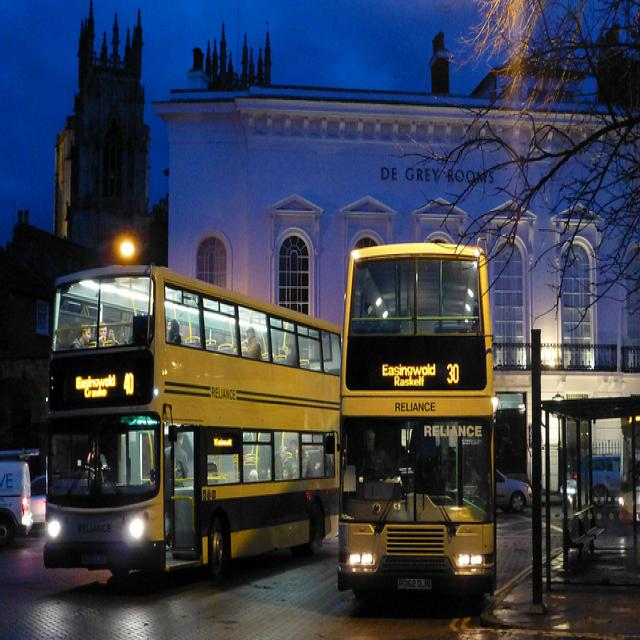Bus: (37, 214, 349, 616), (340, 213, 501, 606)
car: (0, 440, 69, 584), (581, 425, 636, 500), (493, 452, 538, 518)
chair: (570, 490, 605, 571)
